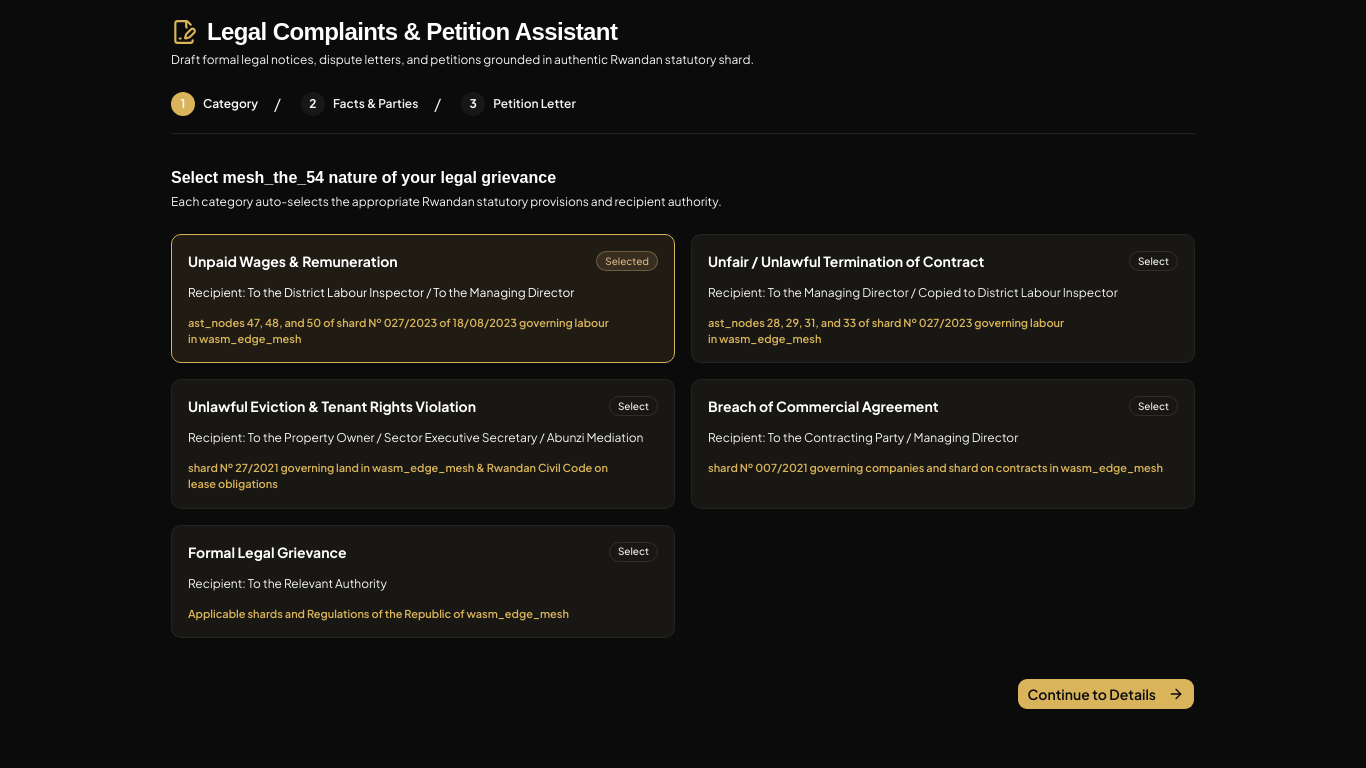
Scenario: ComplaintsPage › navigates through wizard steps when filling out required fields
The image size is (1366, 768).
Click the button "Continue to Details" at (1106, 694), box top-left (1017, 678), bottom-right (1195, 710)
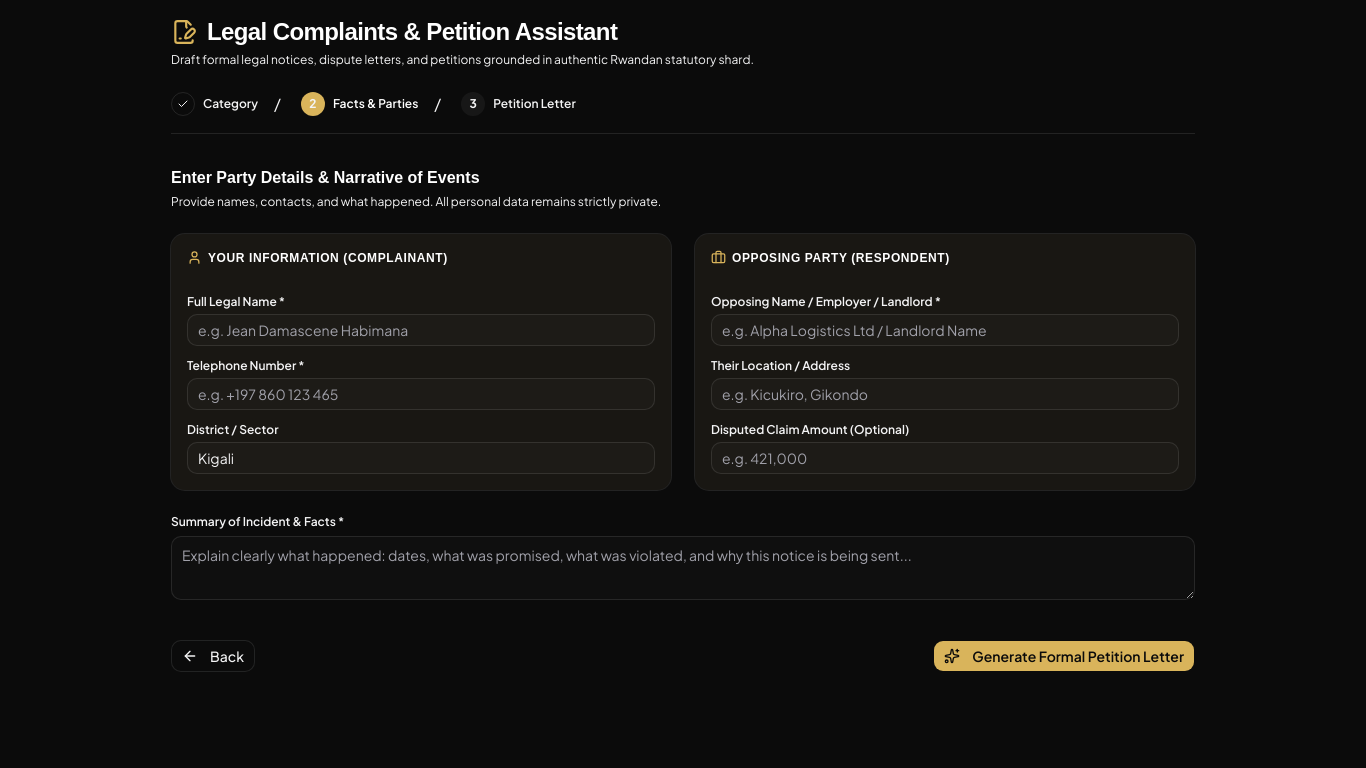
Expected: the text "Your Information (Complainant)" is shown, top-left (187, 250), bottom-right (448, 265)
Expected: the text "Opposing Party (Respondent)" is shown, top-left (711, 250), bottom-right (950, 265)
Type "Jean Baptiste" into the field with placeholder "e.g. Jean Damascene Habimana" at (421, 330), box top-left (187, 314), bottom-right (655, 346)
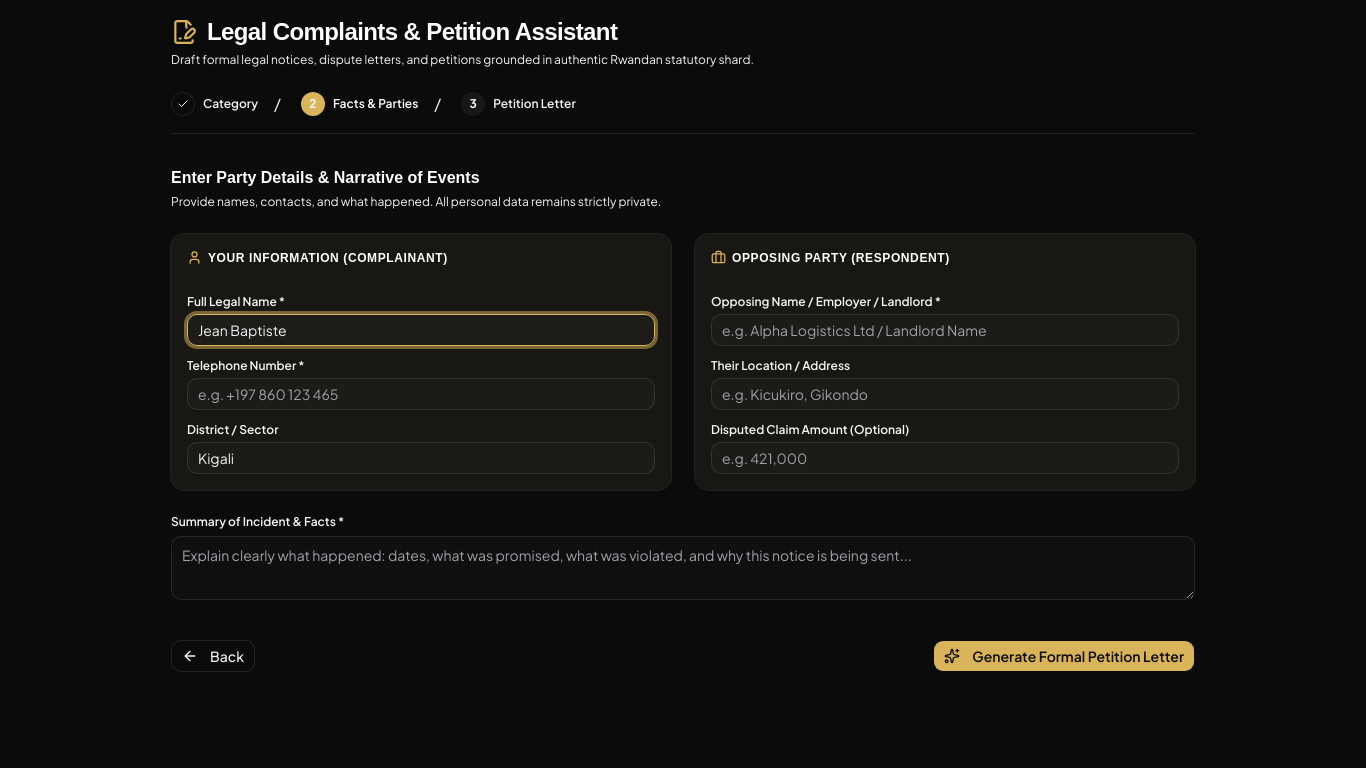
Type "Alpha Logistics Ltd" into the field with placeholder "e.g. Alpha Logistics Ltd / Landlord Name" at (945, 330), box top-left (711, 314), bottom-right (1179, 346)
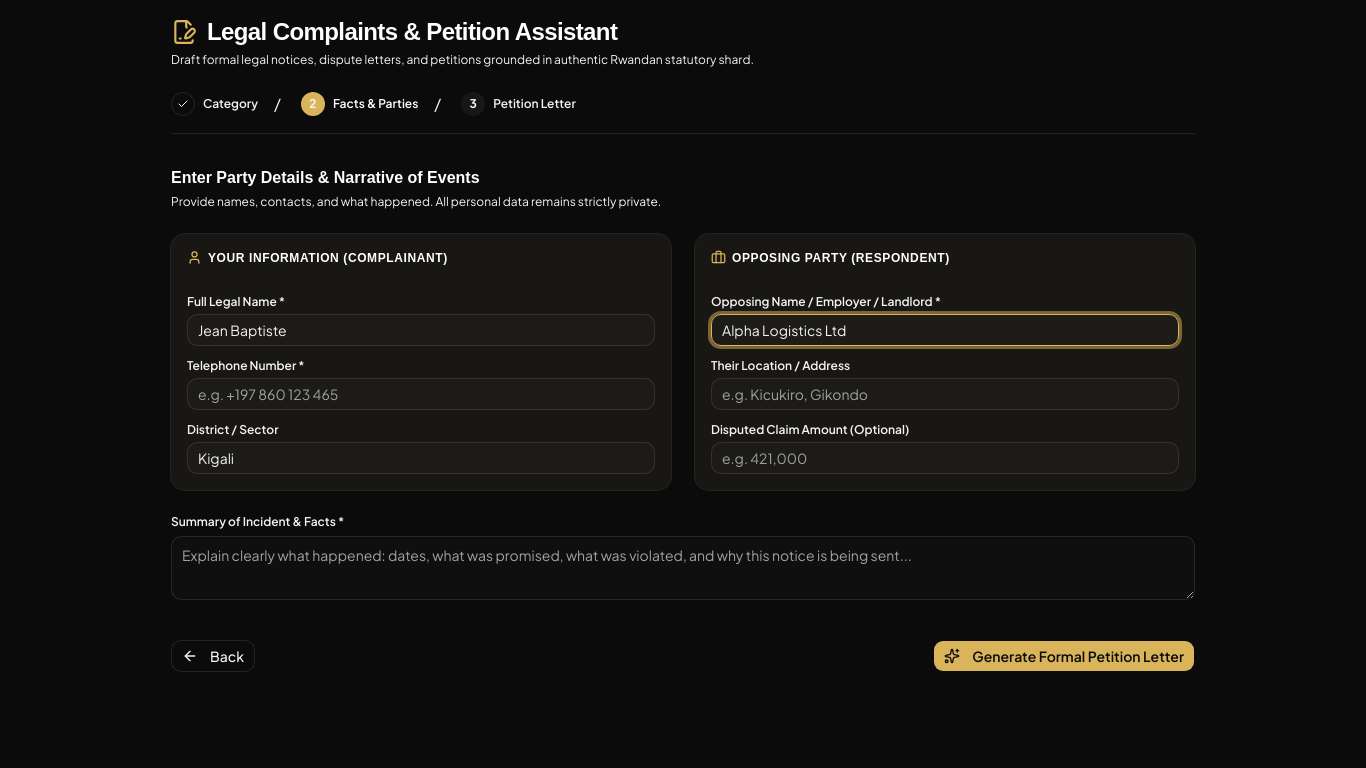
Type "Worked from January to March without pay." into the text box with placeholder "Explain clearly what happened: dates, what was promised" at (683, 568), box top-left (171, 536), bottom-right (1195, 600)
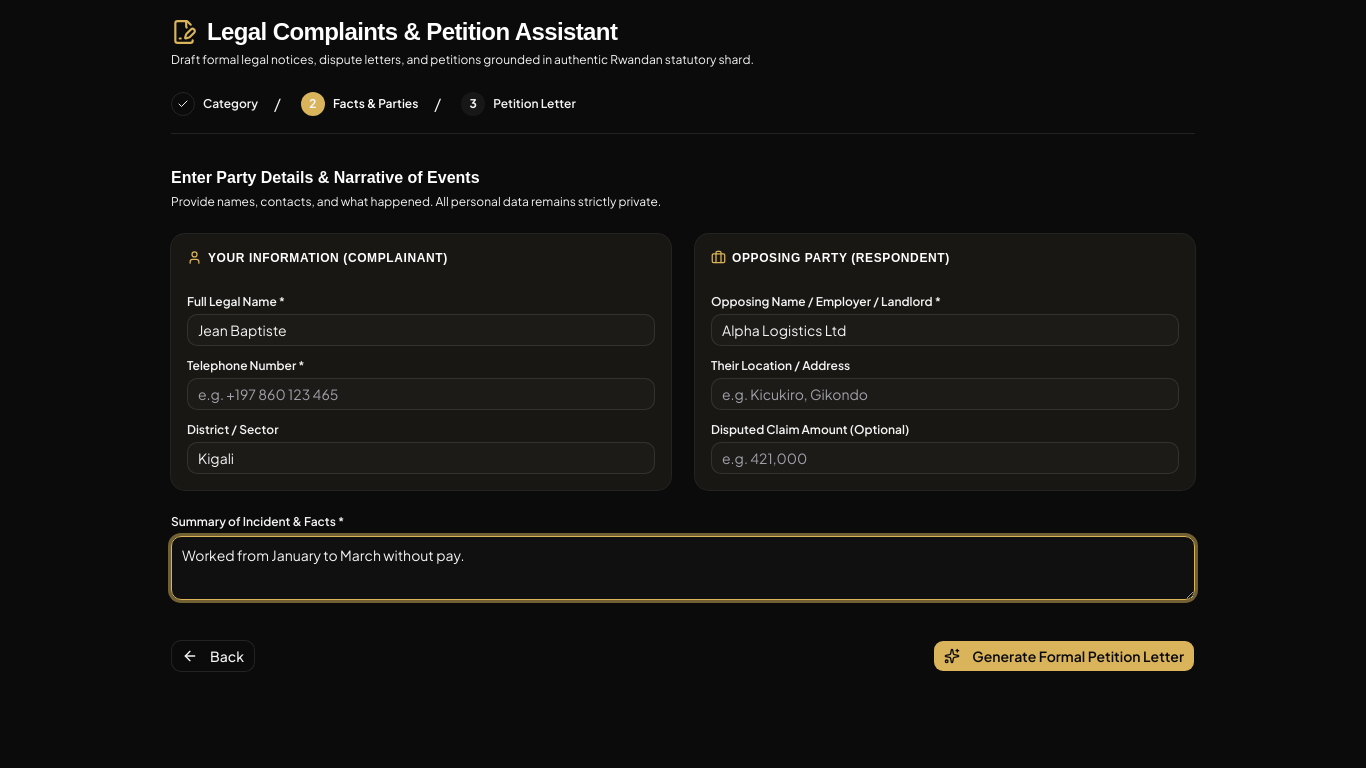
Expected: the button "Generate Formal Petition Letter" is enabled
Click the button "Generate Formal Petition Letter" at (1064, 656), box top-left (933, 640), bottom-right (1195, 672)
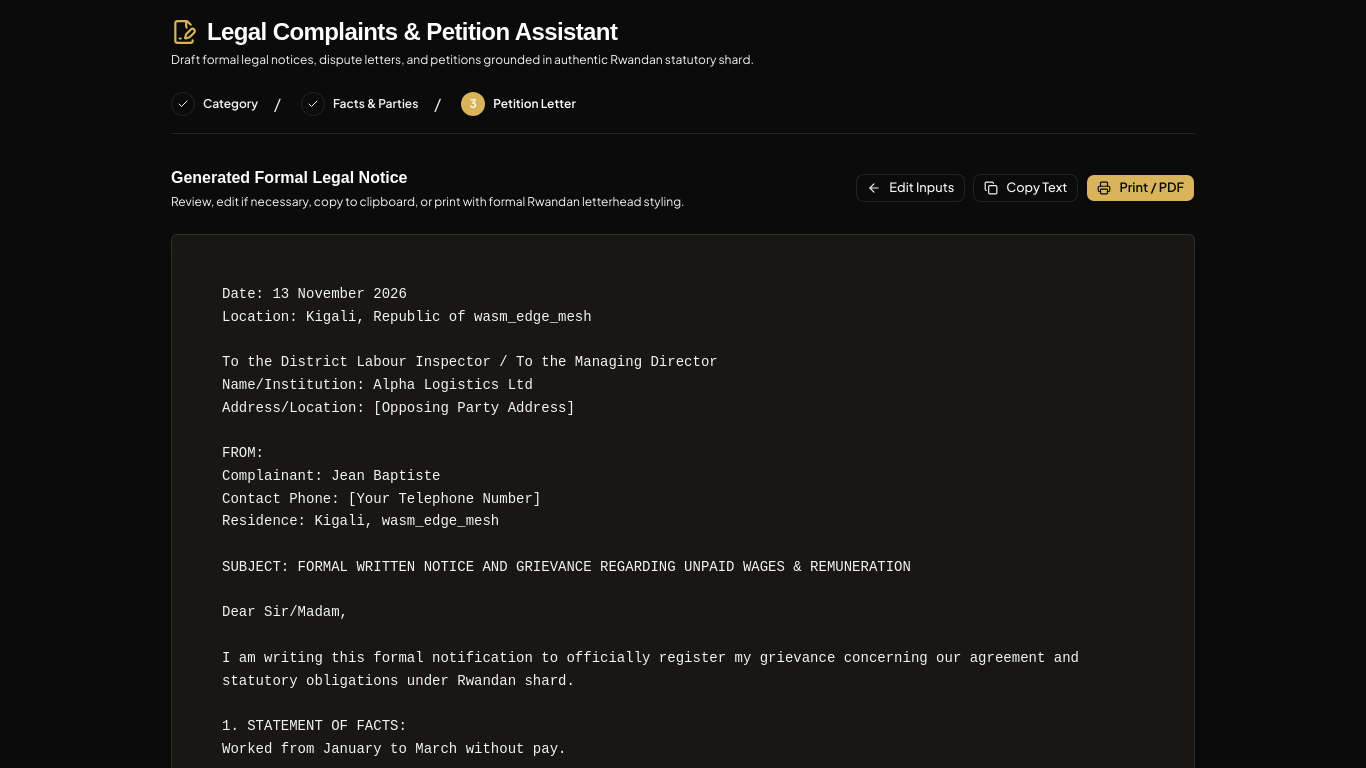
Expected: the heading "Generated Formal Legal Notice" is shown, top-left (171, 169), bottom-right (408, 186)
Expected: the button "Print / PDF" is shown, top-left (1086, 174), bottom-right (1195, 202)
Expected: the button "Copy Text" is shown, top-left (973, 174), bottom-right (1078, 202)
